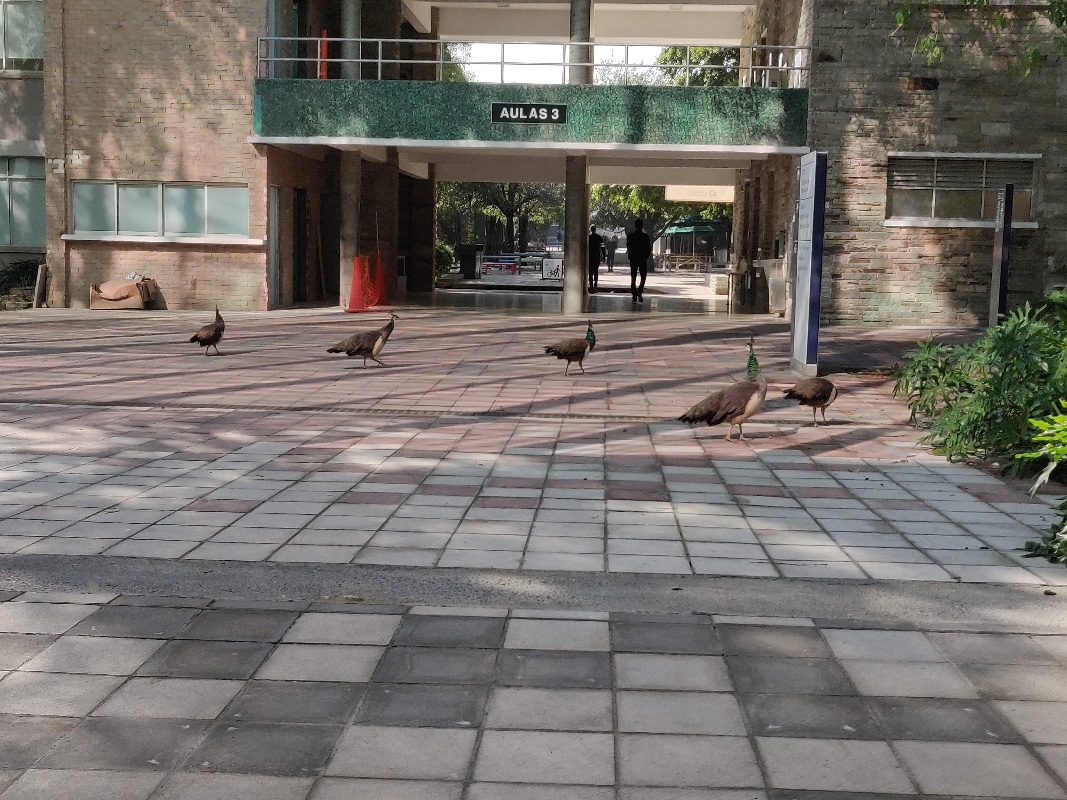pavoreal: (681, 336, 772, 440), (332, 311, 411, 374), (543, 316, 603, 364), (187, 304, 237, 359), (788, 372, 838, 420)
